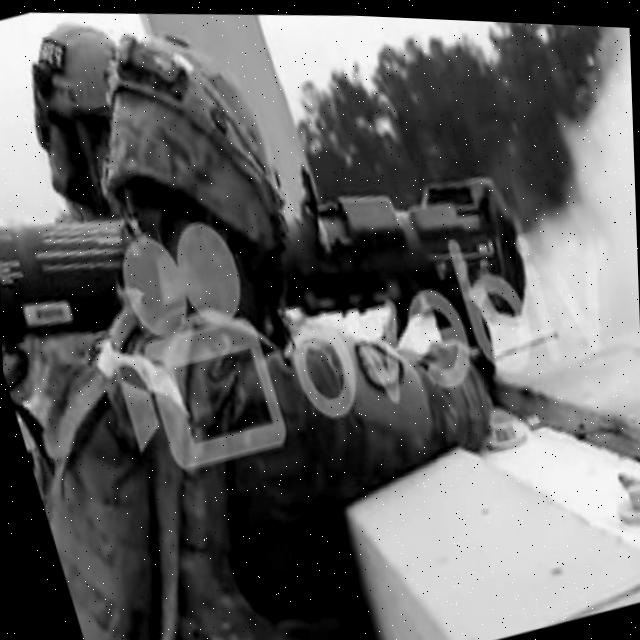rocket: (0, 81, 540, 452)
